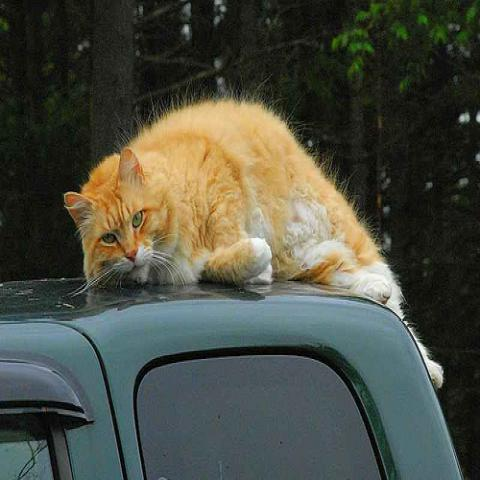car: (1, 280, 461, 474)
truck: (0, 271, 472, 479)
